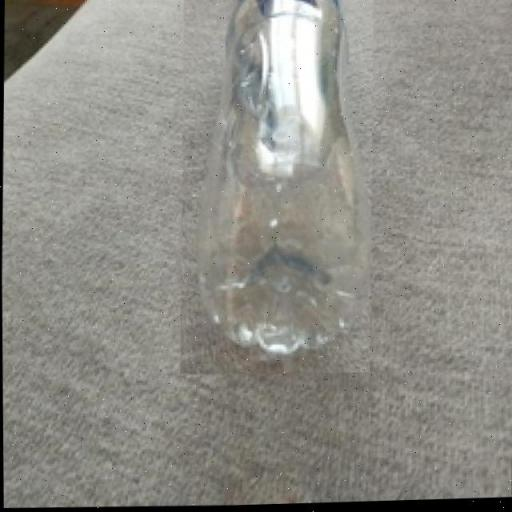plastic: (176, 0, 375, 378)
